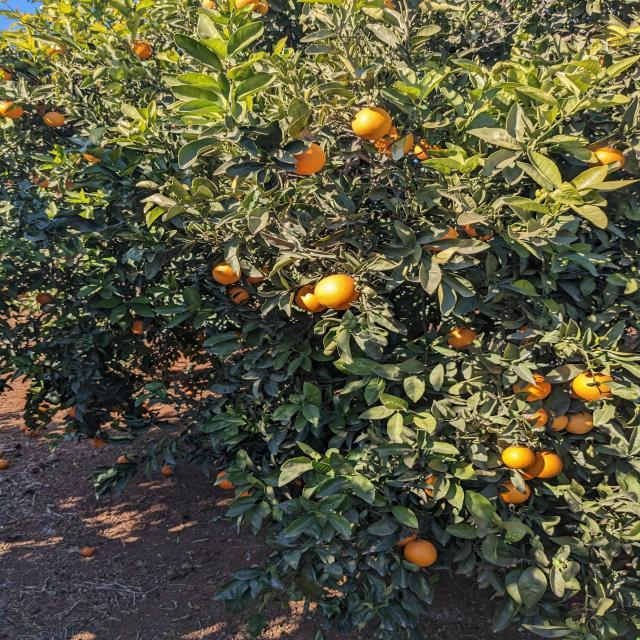Jeruk Sudah Matang: (314, 274, 360, 310), (352, 106, 394, 140), (574, 371, 616, 403), (288, 142, 326, 176), (510, 373, 550, 402), (376, 125, 414, 155), (528, 451, 564, 478), (589, 147, 625, 173), (404, 539, 437, 566), (424, 226, 459, 250), (294, 286, 326, 312), (498, 480, 530, 504), (446, 328, 478, 351), (503, 446, 535, 468), (413, 138, 445, 160), (212, 262, 242, 285), (566, 411, 595, 434), (524, 408, 548, 431), (234, 0, 270, 15), (462, 224, 494, 240), (130, 40, 154, 60), (216, 470, 238, 490), (224, 288, 250, 304), (1, 101, 24, 119), (42, 112, 67, 128), (548, 414, 570, 432), (424, 475, 438, 498), (246, 268, 269, 282), (130, 320, 151, 335), (54, 180, 76, 193), (68, 406, 87, 418), (46, 45, 66, 56), (0, 66, 15, 80), (34, 175, 50, 188), (36, 292, 52, 304), (82, 153, 101, 163), (383, 0, 396, 12), (200, 0, 217, 9), (238, 491, 254, 498)
